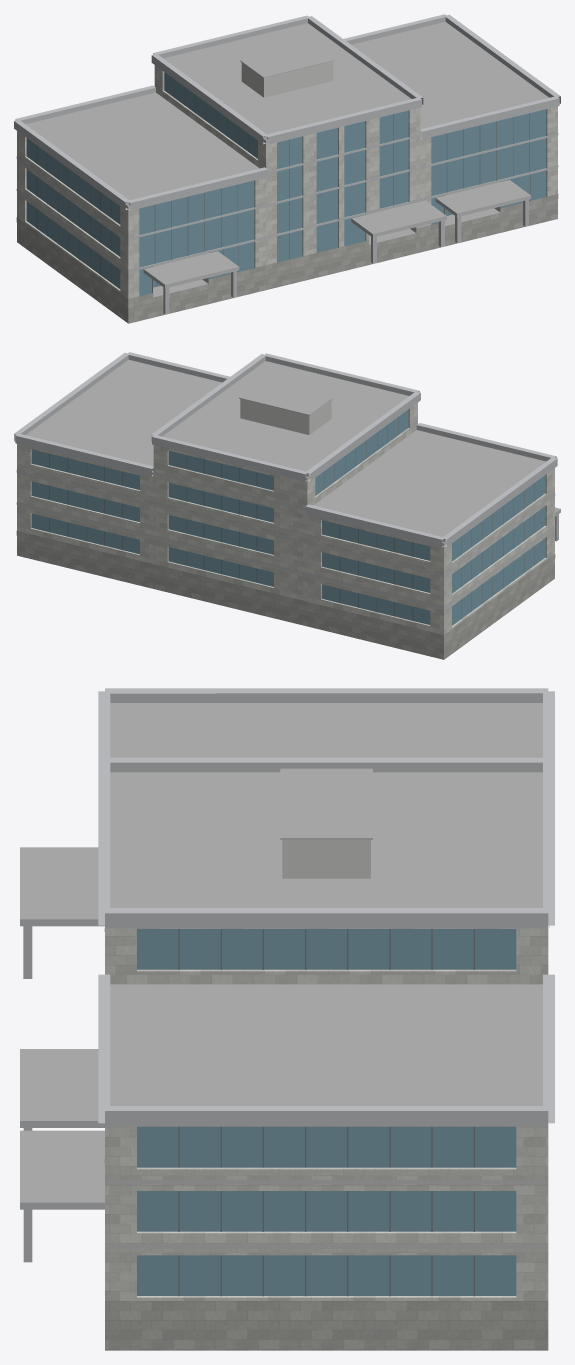
3 views of the same model, one above another, from view 1: azimuth 30°, elevation 25°; view 2: azimuth 150°, elevation 25°; view 3: azimuth 270°, elevation 25° (orthographic). The views are drawn at different scales.
Parts seen in each view (by area): view 1: highPerfSysN26__roof, highPerfSysN26__glass, highPerfSysN26__trim, highPerfSysN26__wall, highPerfSysN26__base, highPerfSysN26__frame, highPerfSysN26__wall2, highPerfSysN26__column; view 2: highPerfSysN26__roof, highPerfSysN26__wall, highPerfSysN26__glass, highPerfSysN26__trim, highPerfSysN26__base, highPerfSysN26__wall2, highPerfSysN26__frame; view 3: highPerfSysN26__roof, highPerfSysN26__glass, highPerfSysN26__trim, highPerfSysN26__wall, highPerfSysN26__base, highPerfSysN26__wall2, highPerfSysN26__frame, highPerfSysN26__column.
Boxes of the visible parts, <box> form: highPerfSysN26__roof: <box>26,22,548,297</box>; highPerfSysN26__glass: <box>26,72,546,296</box>; highPerfSysN26__trim: <box>14,14,560,288</box>; highPerfSysN26__wall: <box>17,65,557,303</box>; highPerfSysN26__base: <box>16,194,558,323</box>; highPerfSysN26__frame: <box>36,80,530,286</box>; highPerfSysN26__wall2: <box>241,61,333,97</box>; highPerfSysN26__column: <box>163,199,528,314</box>; highPerfSysN26__roof: <box>26,359,560,543</box>; highPerfSysN26__wall: <box>17,403,554,639</box>; highPerfSysN26__glass: <box>31,410,545,625</box>; highPerfSysN26__trim: <box>14,352,560,608</box>; highPerfSysN26__base: <box>16,531,555,659</box>; highPerfSysN26__wall2: <box>240,399,331,434</box>; highPerfSysN26__frame: <box>49,417,534,620</box>; highPerfSysN26__roof: <box>20,703,542,1202</box>; highPerfSysN26__glass: <box>137,929,516,1295</box>; highPerfSysN26__trim: <box>20,688,554,1248</box>; highPerfSysN26__wall: <box>105,928,548,1300</box>; highPerfSysN26__base: <box>105,1301,548,1350</box>; highPerfSysN26__wall2: <box>282,840,370,878</box>; highPerfSysN26__frame: <box>178,929,474,1296</box>; highPerfSysN26__column: <box>23,926,32,1262</box>.
Size of the model in its own units: 56.45 by 21.1 by 30.21.
9 materials, 2 textured.
